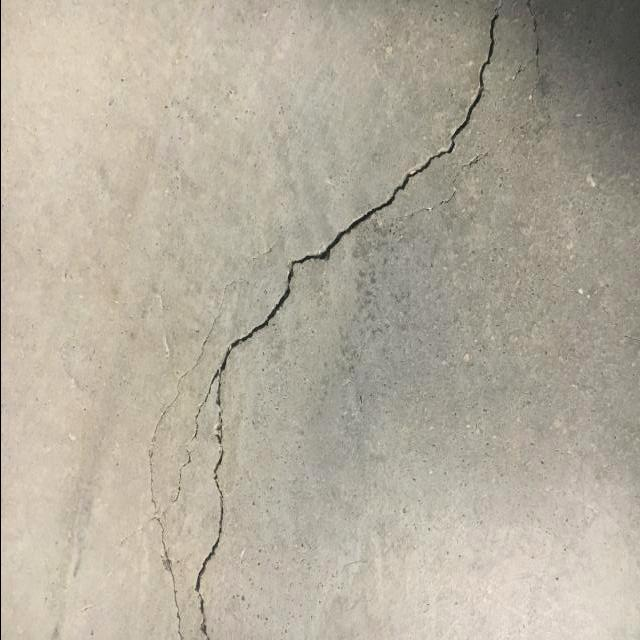SurfaceCrack: (153, 0, 548, 639)
